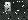person: (6, 4, 12, 15)
